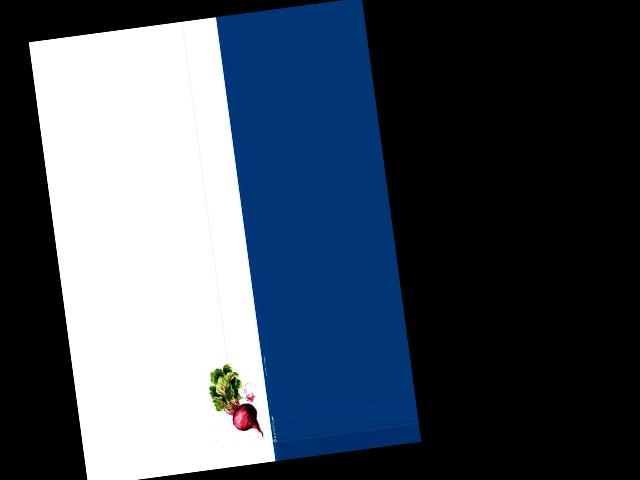beet: (206, 360, 263, 442)
